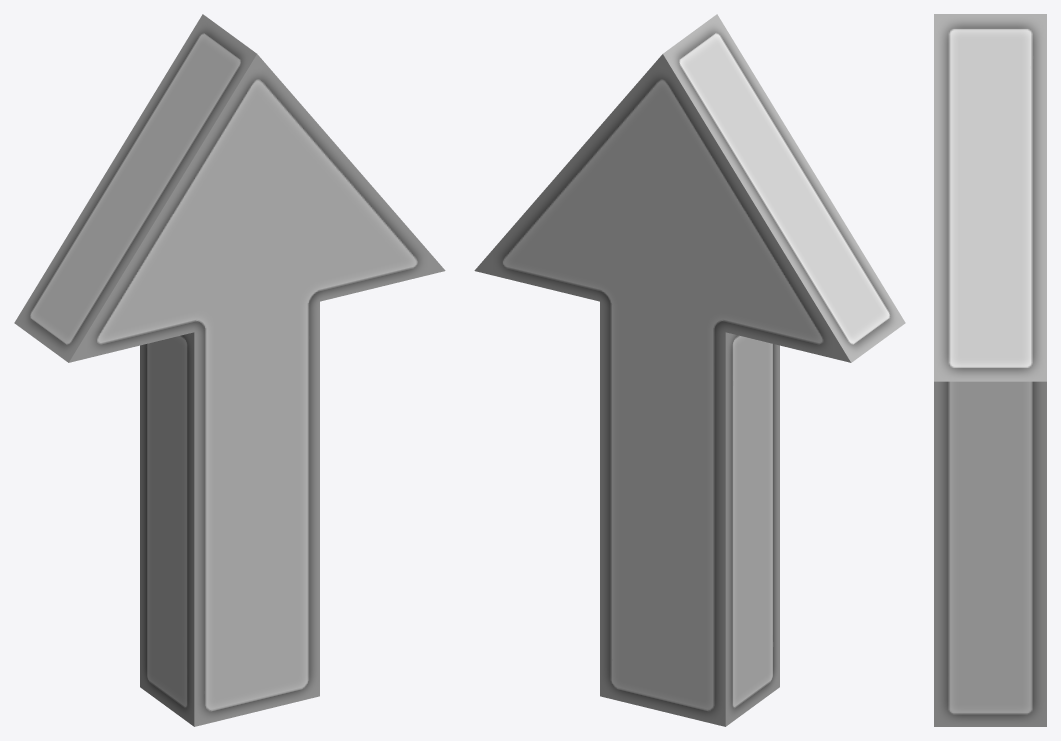
Rendered from arrow.fbx.
The picture shows the model from 3 angles, left to right: view 1: azimuth 30°, elevation 25°; view 2: azimuth 150°, elevation 25°; view 3: azimuth 270°, elevation 25°; orthographic projection. The views are drawn at different scales.
Parts seen in each view (by area): view 1: MESH arrow; view 2: MESH arrow; view 3: MESH arrow.
Boxes of the visible parts, box(x1,y1,x2,y2) form: MESH arrow: box(14, 14, 445, 726); MESH arrow: box(474, 14, 905, 726); MESH arrow: box(934, 14, 1046, 726).
Bounding box in the file's own units: 60 × 100 × 15.
